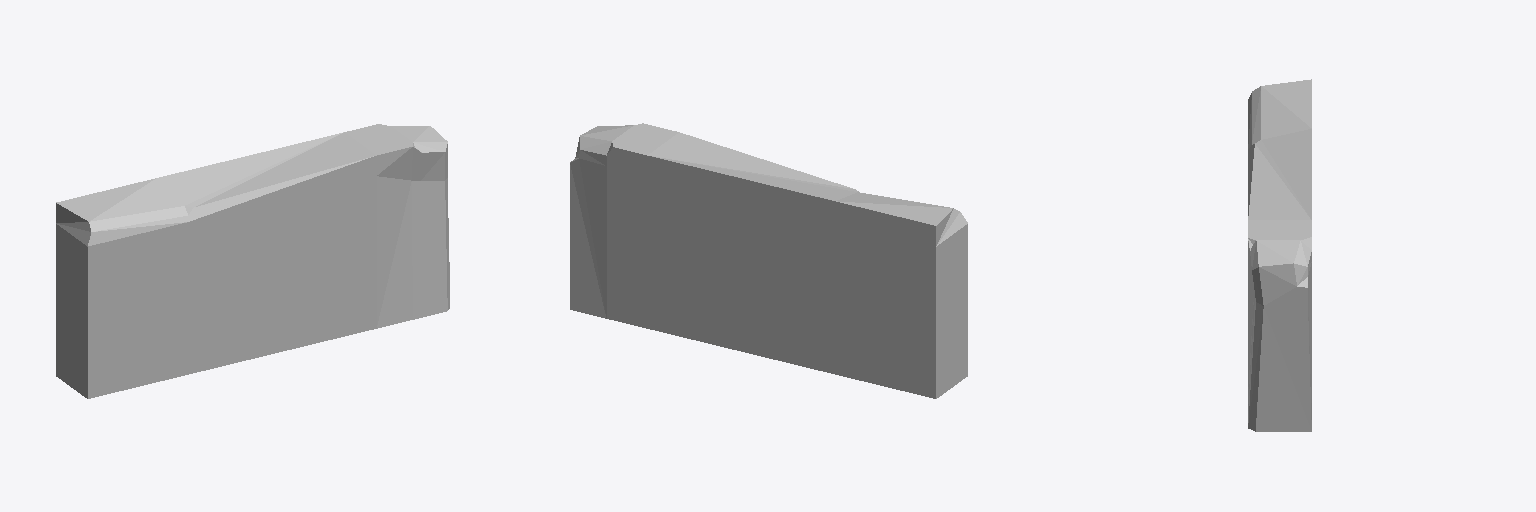
File: externalwall_uv.obj
3 renders of one model, left to right at view 1: azimuth 30°, elevation 25°; view 2: azimuth 150°, elevation 25°; view 3: azimuth 270°, elevation 25°, orthographic.
Visible parts, largest first — view 1: Wall OutsideAmbiance; view 2: Wall OutsideAmbiance; view 3: Wall OutsideAmbiance.
Part boxes in pixels (bbox=[...]): Wall OutsideAmbiance: bbox=[56, 124, 449, 398]; Wall OutsideAmbiance: bbox=[570, 123, 967, 398]; Wall OutsideAmbiance: bbox=[1248, 79, 1311, 431].
Size of the model in its own units: 6.68 by 3 by 1.